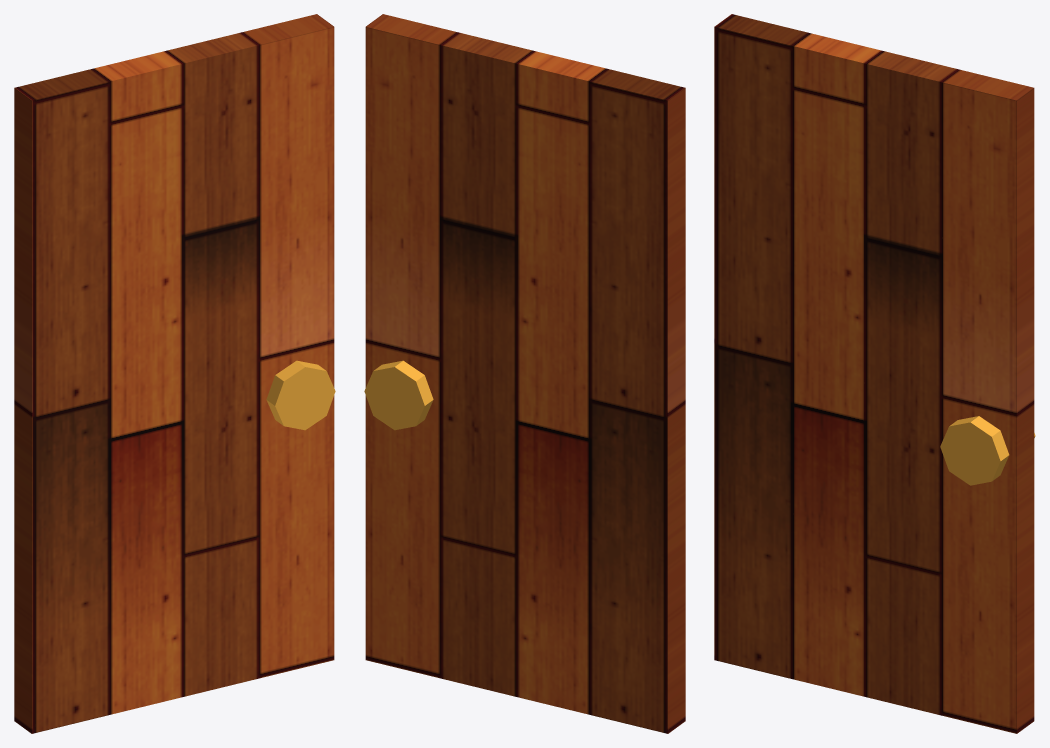
File: door1.obj
3 views of the same model, side by side, from view 1: azimuth 30°, elevation 25°; view 2: azimuth 150°, elevation 25°; view 3: azimuth 330°, elevation 25° (orthographic).
Visible parts, largest first — view 1: Object.1, Object.2; view 2: Object.1, Object.2; view 3: Object.1, Object.2.
Boxes of the visible parts, x1,y1,x2,y2 form: Object.1: [14, 14, 334, 733]; Object.2: [266, 360, 335, 430]; Object.1: [365, 14, 685, 733]; Object.2: [364, 360, 433, 430]; Object.1: [714, 14, 1034, 733]; Object.2: [940, 416, 1035, 485].
Bounding box in the file's own units: 1 × 2 × 0.2.
